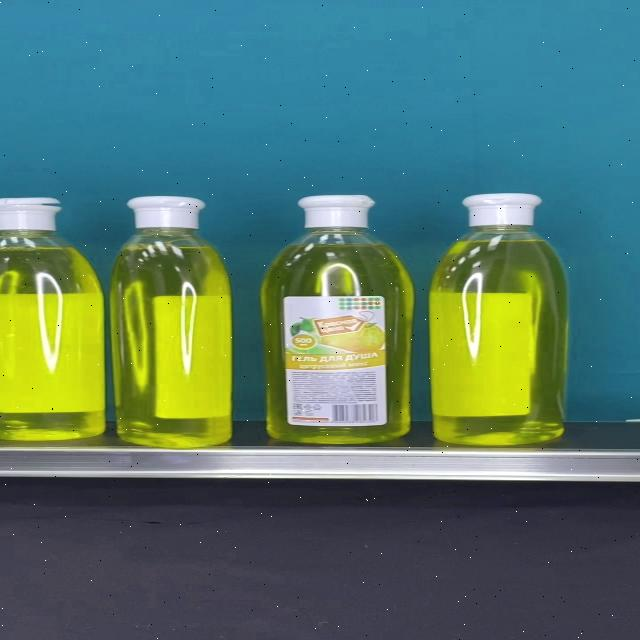Bottle: (262, 194, 414, 444), (428, 193, 566, 446), (110, 196, 230, 448)
Cap: (460, 193, 542, 227), (296, 195, 376, 228), (127, 197, 205, 230)
